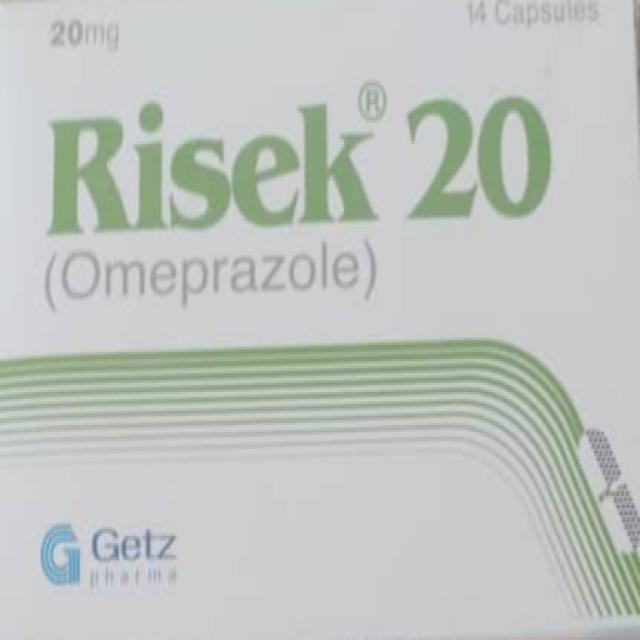drug-name: (47, 70, 566, 237)
